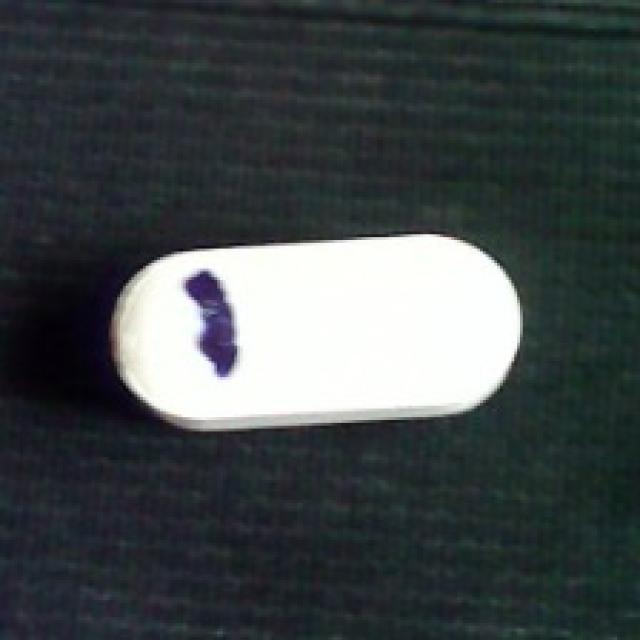defected: (94, 232, 529, 432)
